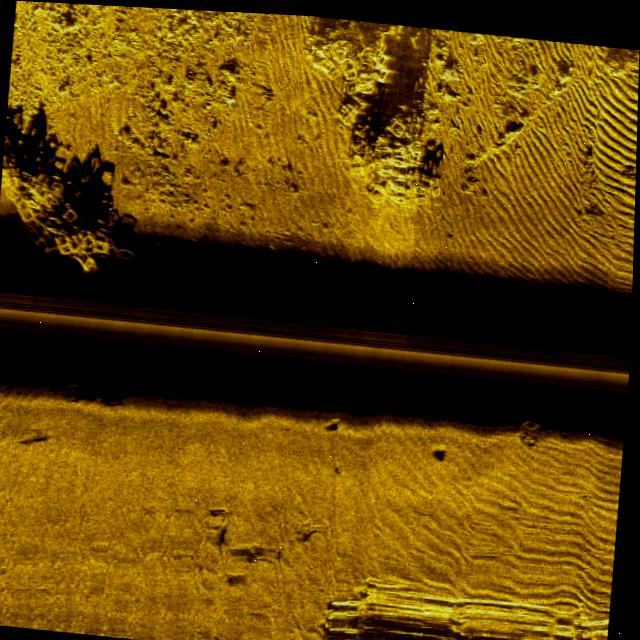artificial reef: (273, 35, 471, 209), (0, 143, 126, 270), (49, 343, 158, 420), (518, 405, 558, 439)
